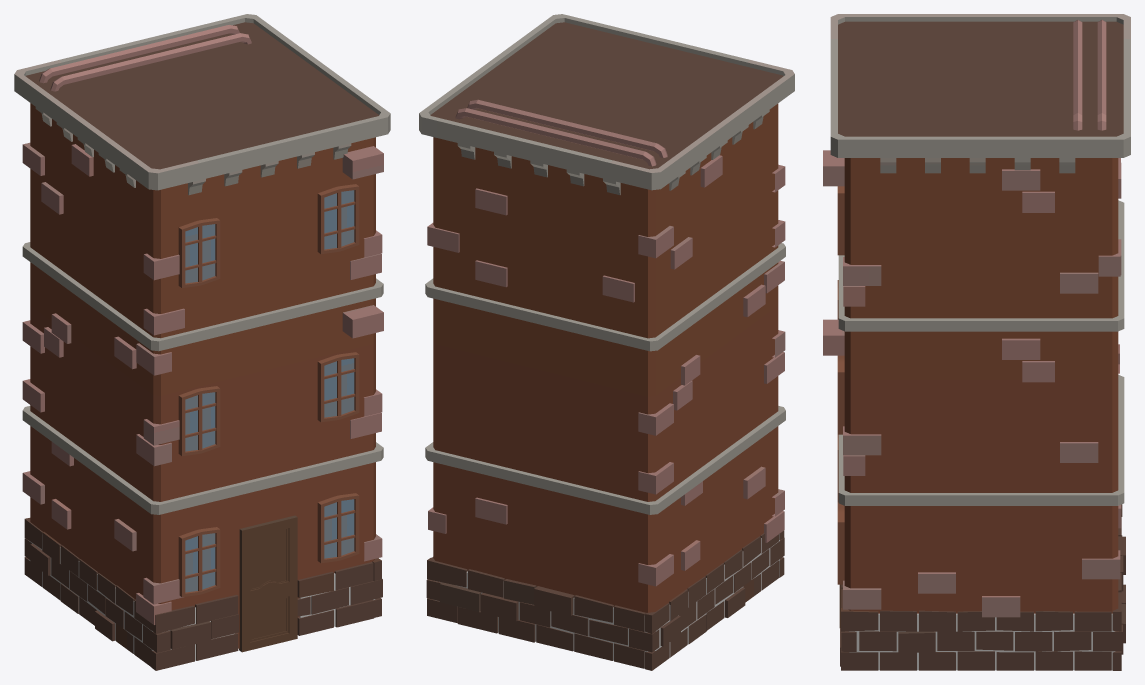
File: 3Story Small.glb
The picture shows the model from 3 angles, left to right: view 1: azimuth 30°, elevation 25°; view 2: azimuth 150°, elevation 25°; view 3: azimuth 270°, elevation 25°; orthographic projection. The views are drawn at different scales.
Visible parts, largest first — view 1: 3Story_Small; view 2: 3Story_Small; view 3: 3Story_Small.
Part boxes in pixels (x1,y1,x2,y2): 3Story_Small: (14, 14, 390, 670); 3Story_Small: (419, 14, 794, 670); 3Story_Small: (823, 14, 1130, 670).
Size of the model in its own units: 4.58 by 9.24 by 4.74.
Materials: 1 (1 with a texture image).
